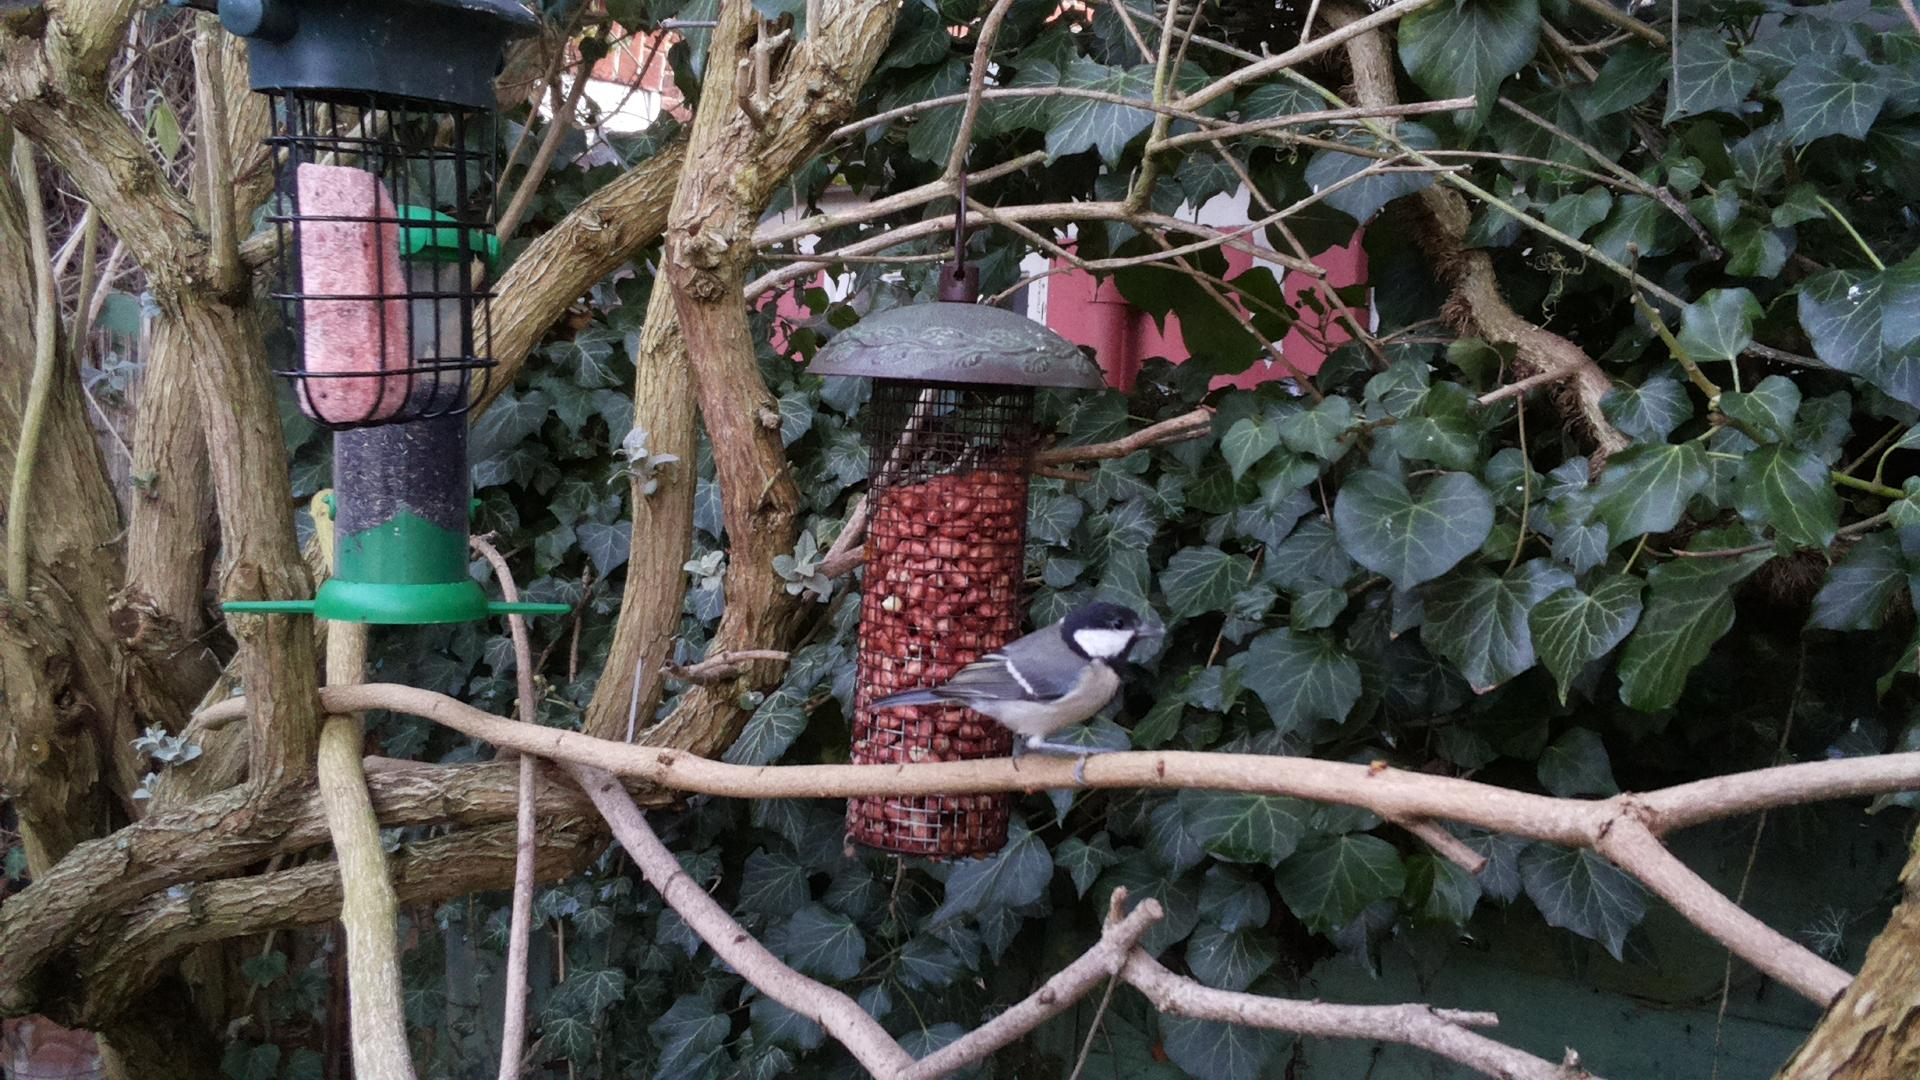great tit: (865, 600, 1168, 785)
